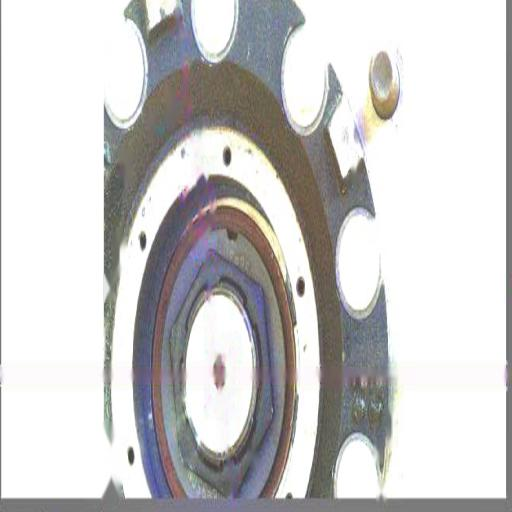center: (211, 357, 228, 395)
notch: (225, 225, 242, 251)
